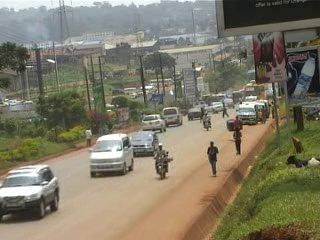Car: (0, 162, 60, 224), (86, 129, 135, 178), (129, 129, 159, 159), (139, 113, 167, 135), (184, 104, 204, 121), (201, 99, 225, 113), (220, 96, 234, 107)
Motorcycle: (151, 141, 173, 180), (200, 109, 214, 133)
